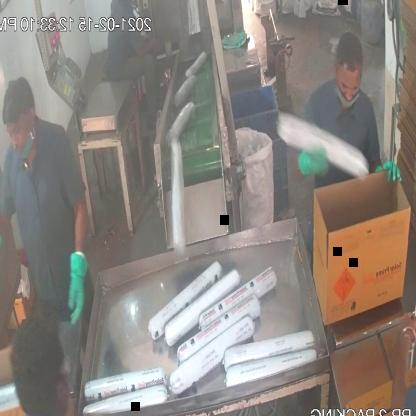glove: (60, 233, 98, 330)
no_glove: (381, 297, 416, 416)
